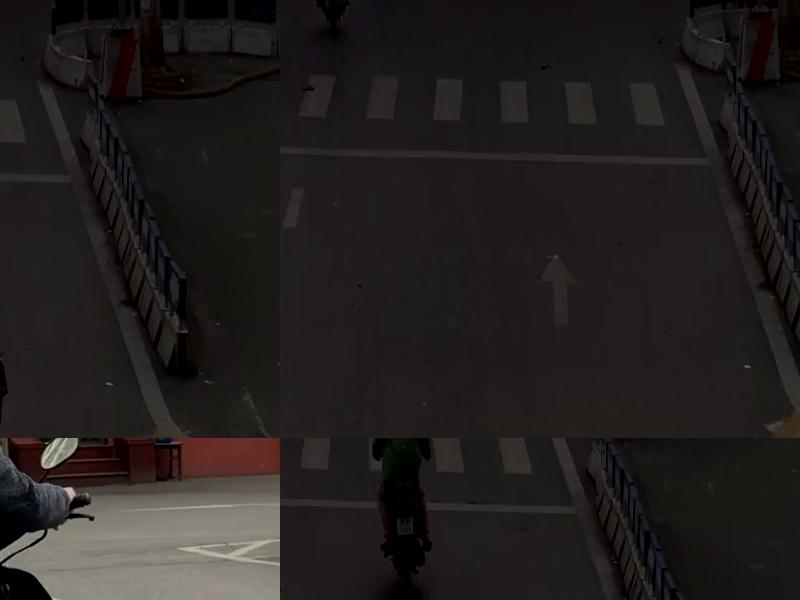license_plate: (395, 516, 415, 534)
motorcyclist: (0, 438, 98, 600), (371, 438, 435, 600), (309, 0, 353, 35)
